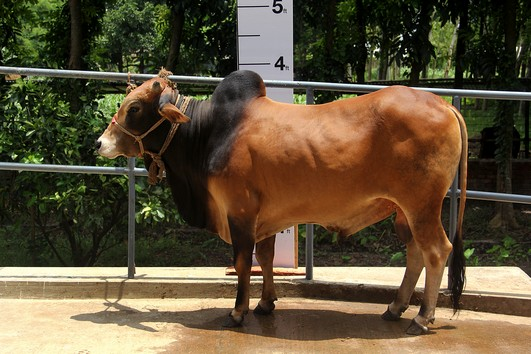cow: (93, 58, 474, 335)
